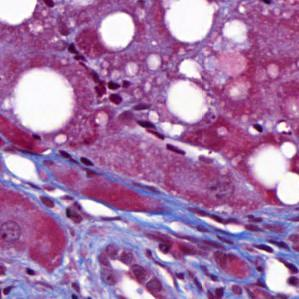inflammation: (94, 75, 137, 112)
